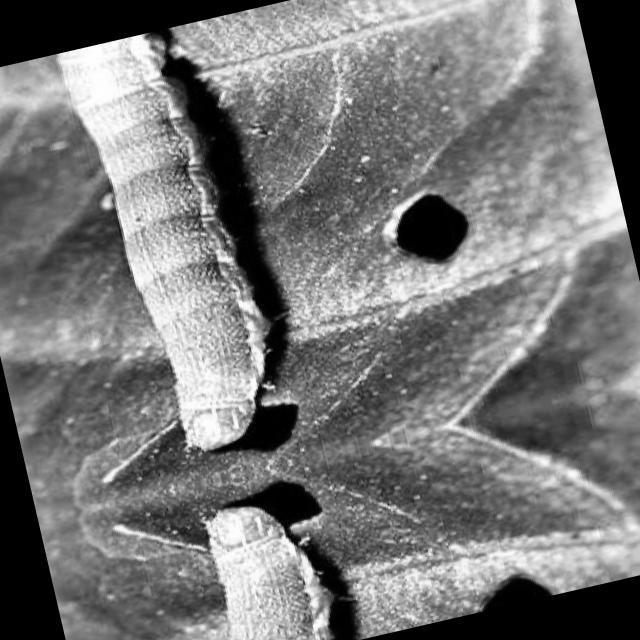Armyworm: (45, 3, 374, 470), (127, 479, 393, 640)
Armyworm_damage: (349, 161, 523, 286), (426, 553, 586, 624)
